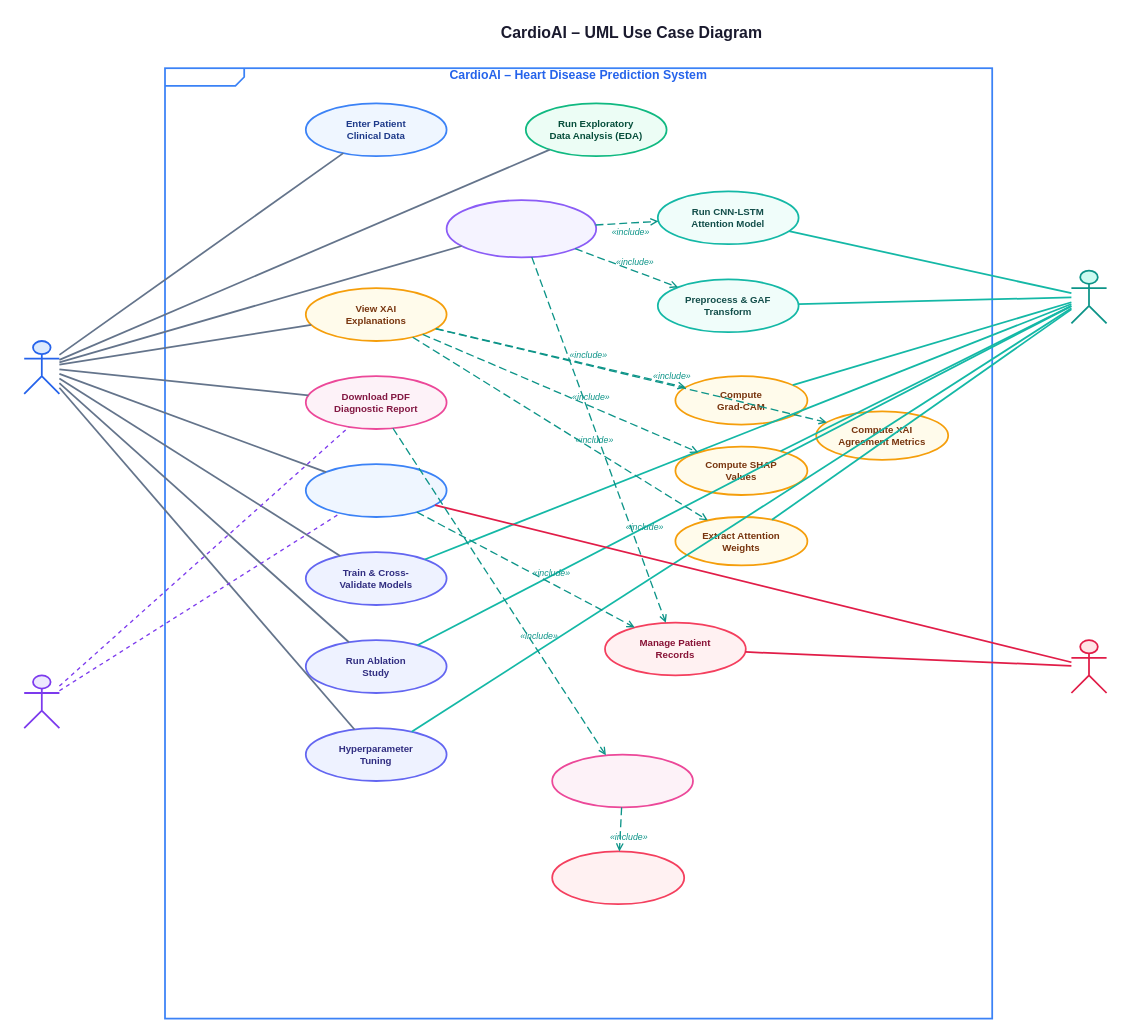
Image size: 1143x1034. Some labels were removed from this diagram. The centre of each missing label's shape, as x and y in pixels:
Apply Clinical Guideline Rules: [618,877]
Clinician (Primary Actor): [41,367]
Generate Clinical Narrative Report: [622,780]
ML Engine (Supporting Actor): [1088,296]
MySQL Database (Supporting Actor): [1088,666]
Patient (Stakeholder): [41,701]
Predict Heart Disease Risk: [521,228]
Search Patient History: [375,490]
